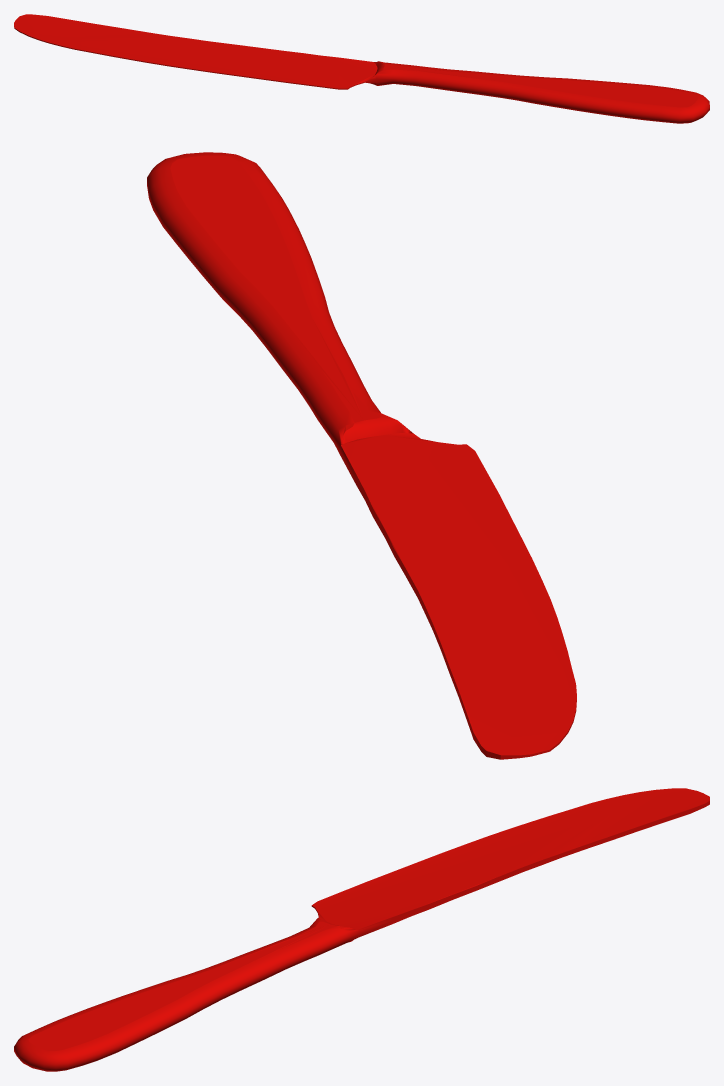
Rendered from [2] dao nhua.fbx.
The picture shows the model from 3 angles, top to bottom: view 1: azimuth 30°, elevation 25°; view 2: azimuth 150°, elevation 25°; view 3: azimuth 270°, elevation 25°; orthographic projection. The views are drawn at different scales.
Visible parts, largest first — view 1: dao nhua; view 2: dao nhua; view 3: dao nhua.
Boxes of the visible parts, x1=… form: dao nhua: x1=14, y1=14, x2=709, y2=123; dao nhua: x1=147, y1=152, x2=576, y2=759; dao nhua: x1=14, y1=788, x2=709, y2=1071.
Bounding box in the file's own units: 47.1 × 1.48 × 49.87.
